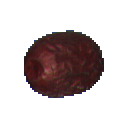gd: (20, 16, 107, 106)
